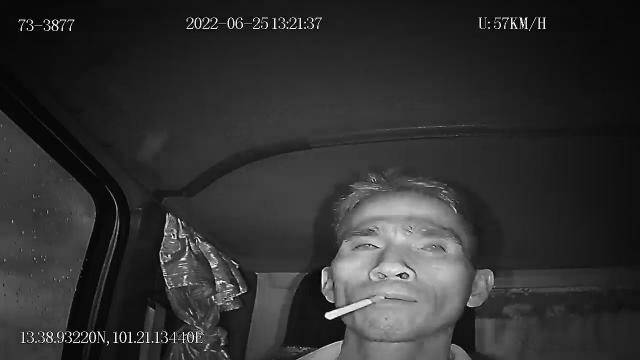SafeDriving: (408, 232, 455, 258), (344, 233, 386, 256)
Smoking: (324, 293, 384, 321)
